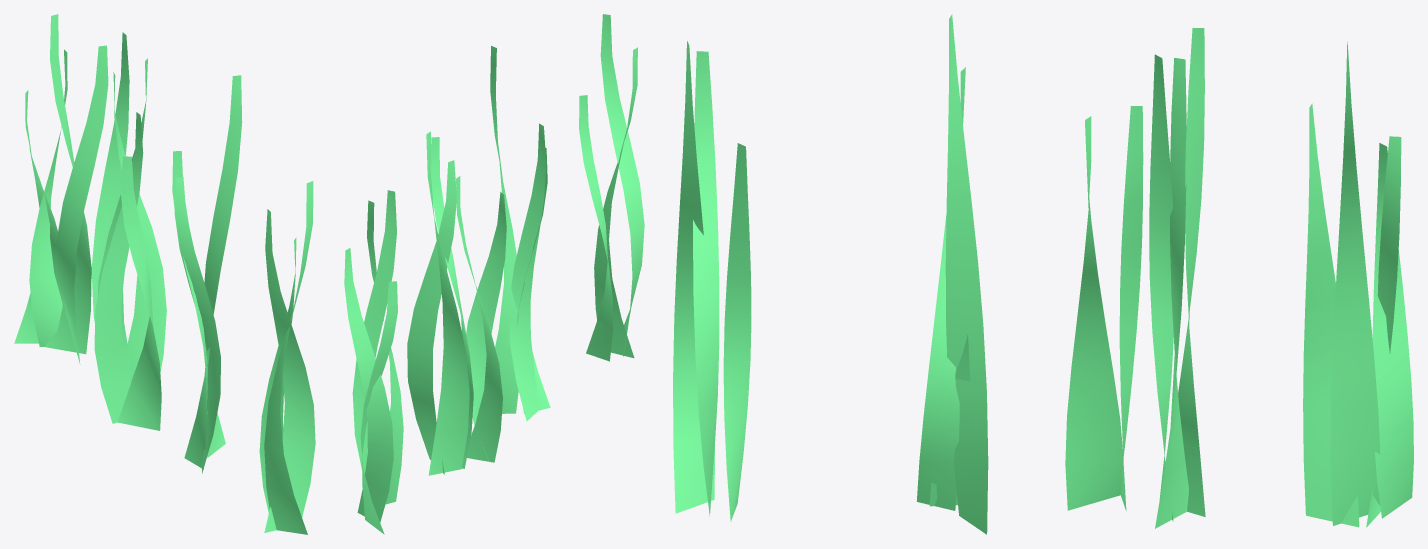
The model's file is KelpEdge.fbx.
3 views of the same model, side by side, from view 1: azimuth 30°, elevation 25°; view 2: azimuth 150°, elevation 25°; view 3: azimuth 270°, elevation 25° (orthographic). The views are drawn at different scales.
Parts seen in each view (by area): view 1: KIT_KelpEdge_Mesh; view 2: KIT_KelpEdge_Mesh; view 3: KIT_KelpEdge_Mesh.
Boxes of the visible parts, x1,y1,x2,y2 form: KIT_KelpEdge_Mesh: [14, 14, 315, 534]; KIT_KelpEdge_Mesh: [344, 14, 644, 534]; KIT_KelpEdge_Mesh: [673, 14, 1413, 534].
Bounding box in the file's own units: 0.5709 × 2.39 × 3.1.
